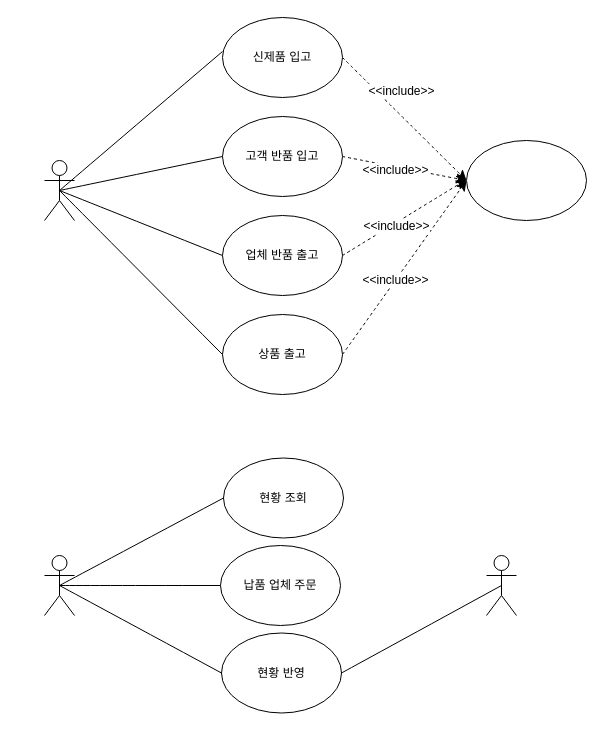
This 604x731 diagram has some shape labels left out. The centre of each missing label's shape, as x and y in pixels:
"쇼핑몰 시스템" belongs at point (501, 585).
"입출고 담당자" belongs at point (59, 190).
"현황 관리 담당자" belongs at point (59, 585).
"현황 등록" belongs at point (526, 180).
